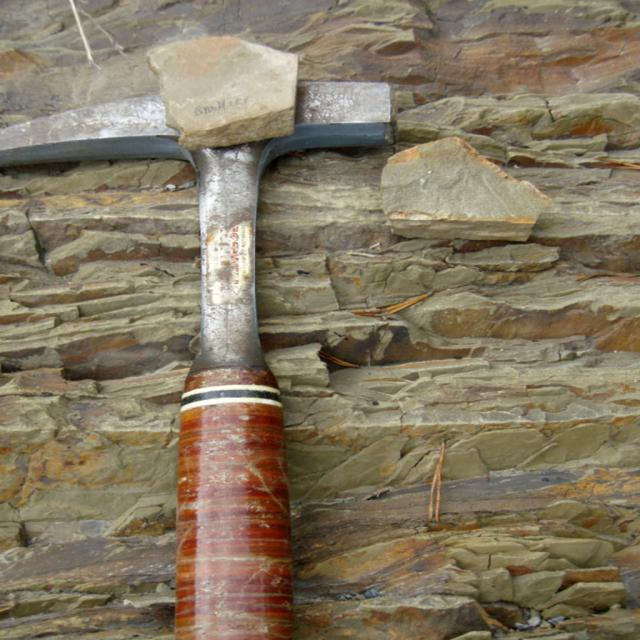hammer: (0, 80, 394, 640)
